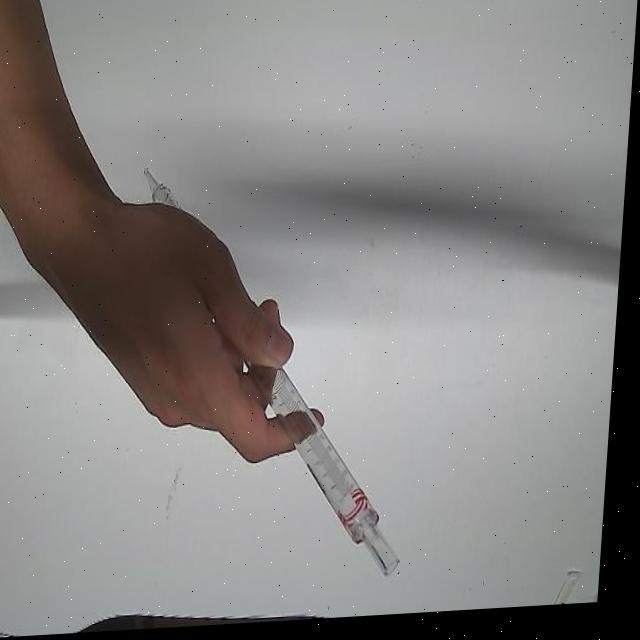Serelogical Pipet 25 mL: (119, 155, 434, 599)
